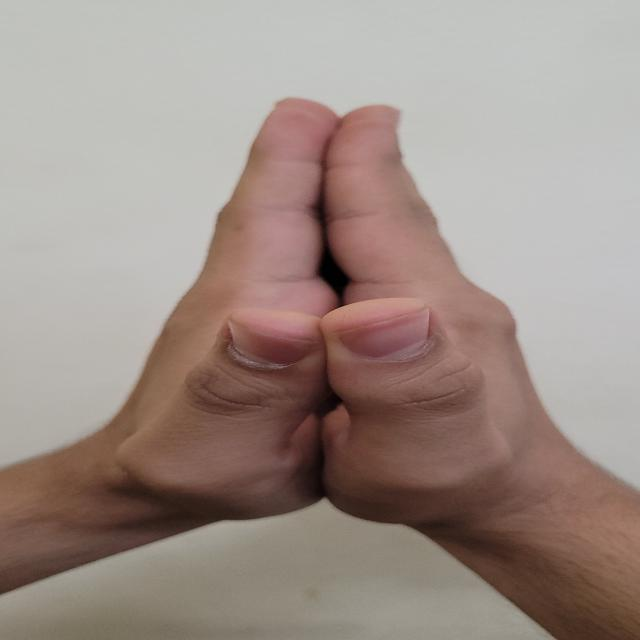Thank You: (104, 63, 535, 587)
